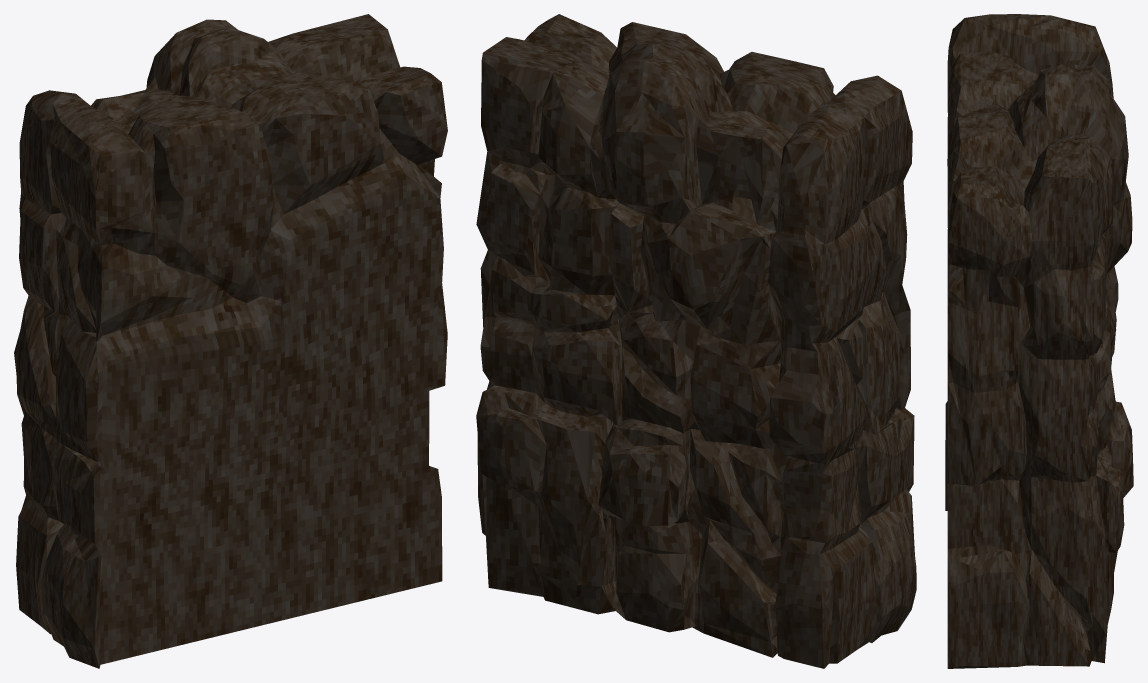
File: cave-wall3.glb
The picture shows the model from 3 angles, left to right: view 1: azimuth 30°, elevation 25°; view 2: azimuth 150°, elevation 25°; view 3: azimuth 270°, elevation 25°; orthographic projection. The views are drawn at different scales.
Visible parts, largest first — view 1: Cube.002; view 2: Cube.002; view 3: Cube.002.
Boxes of the visible parts, x1,y1,x2,y2 form: Cube.002: (14,14,447,668); Cube.002: (476,14,916,668); Cube.002: (945,14,1133,668).
Size of the model in its own units: 4.68 by 6.47 by 2.09.
Materials: 1 (1 with a texture image).
